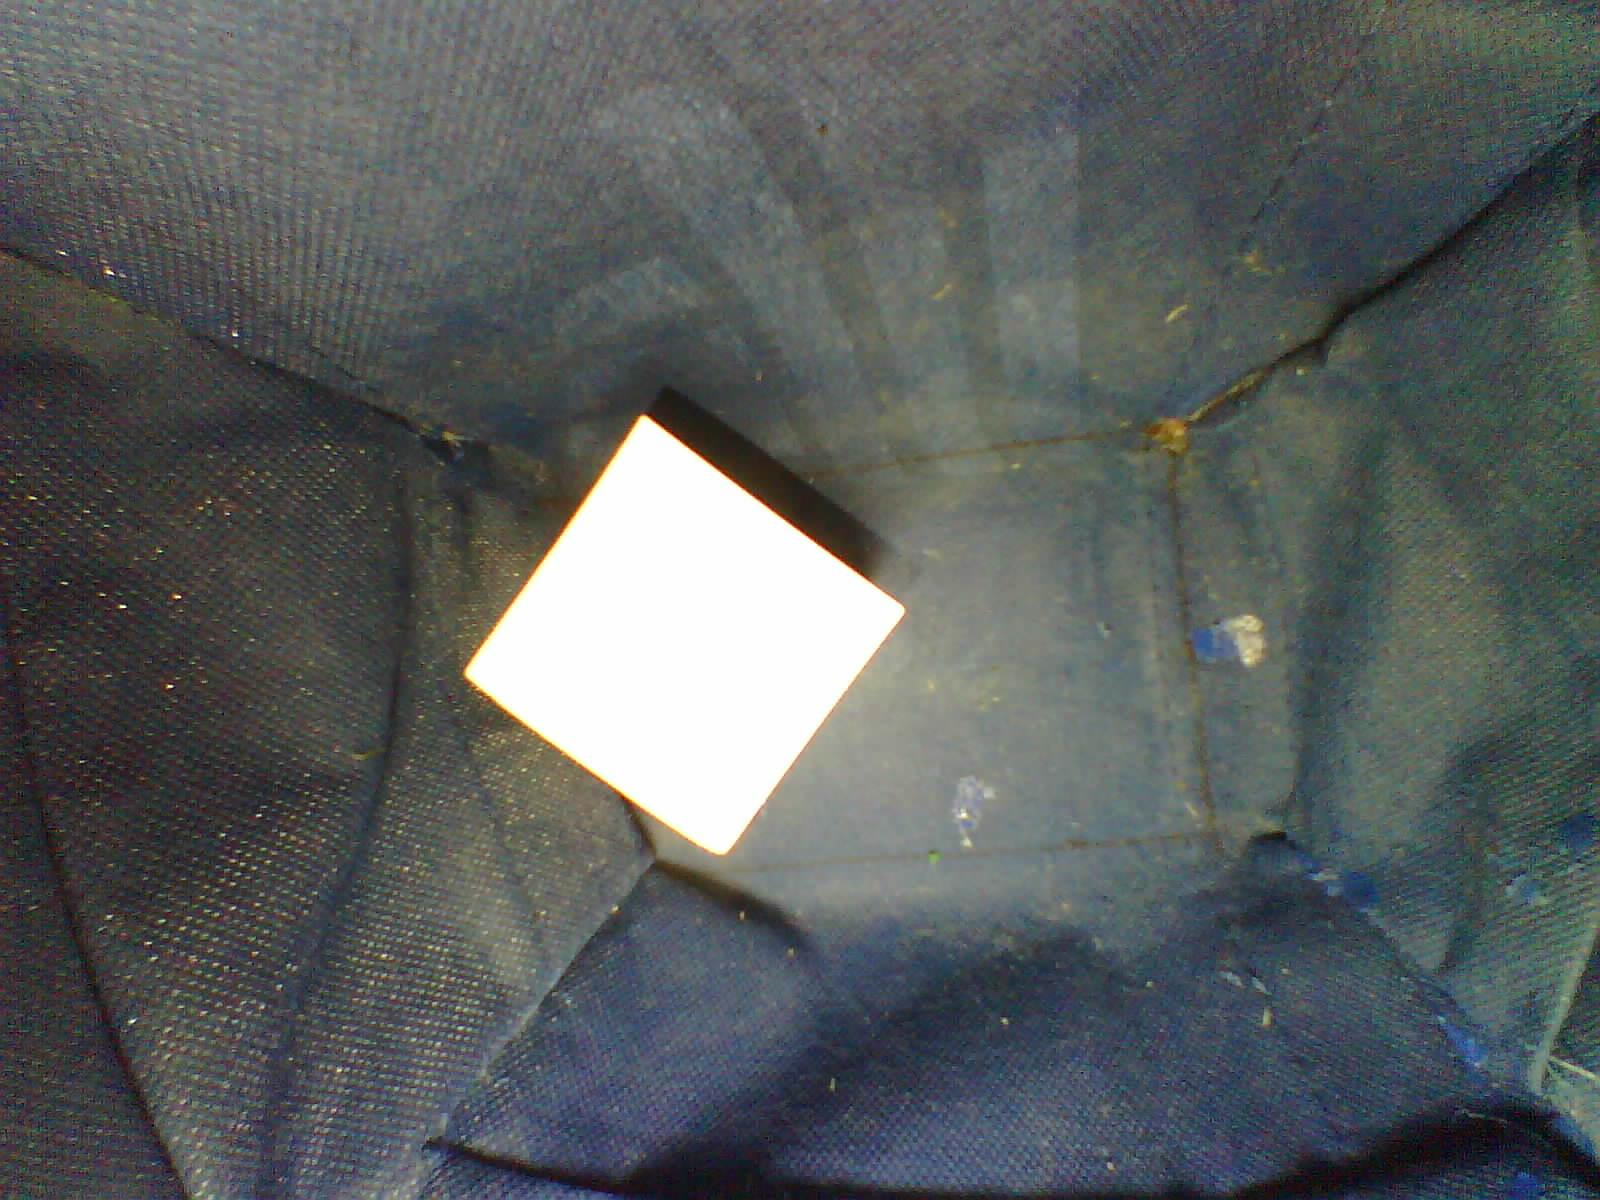cube-hard: (433, 408, 927, 887)
